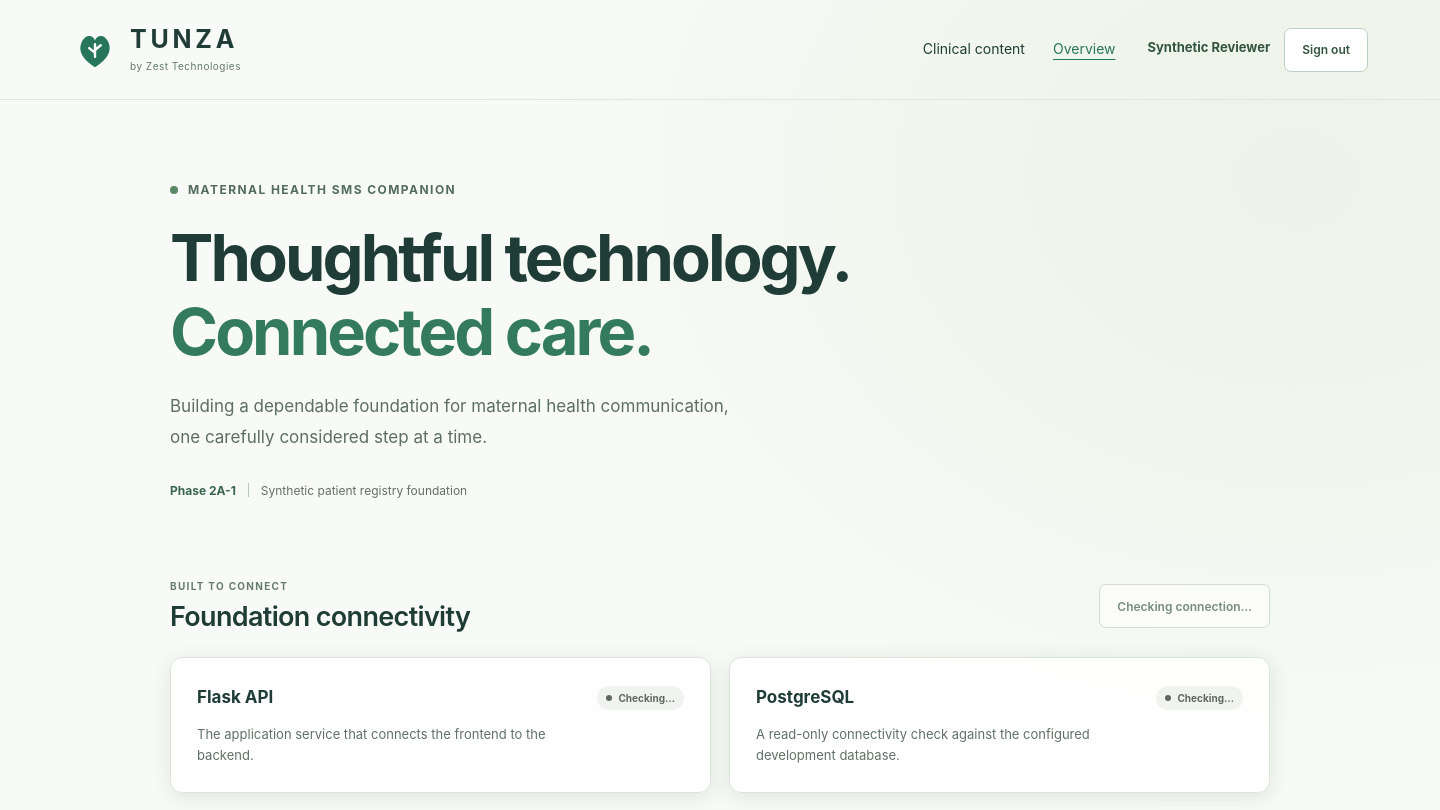
Scenario: synthetic clinical content foundation › uses permission-based navigation without opening patient interfaces
This screenshot has width=1440, height=810.
Click the button "Clinical content". click: (974,50)
box: x1=923 y1=28 x2=1025 y2=71
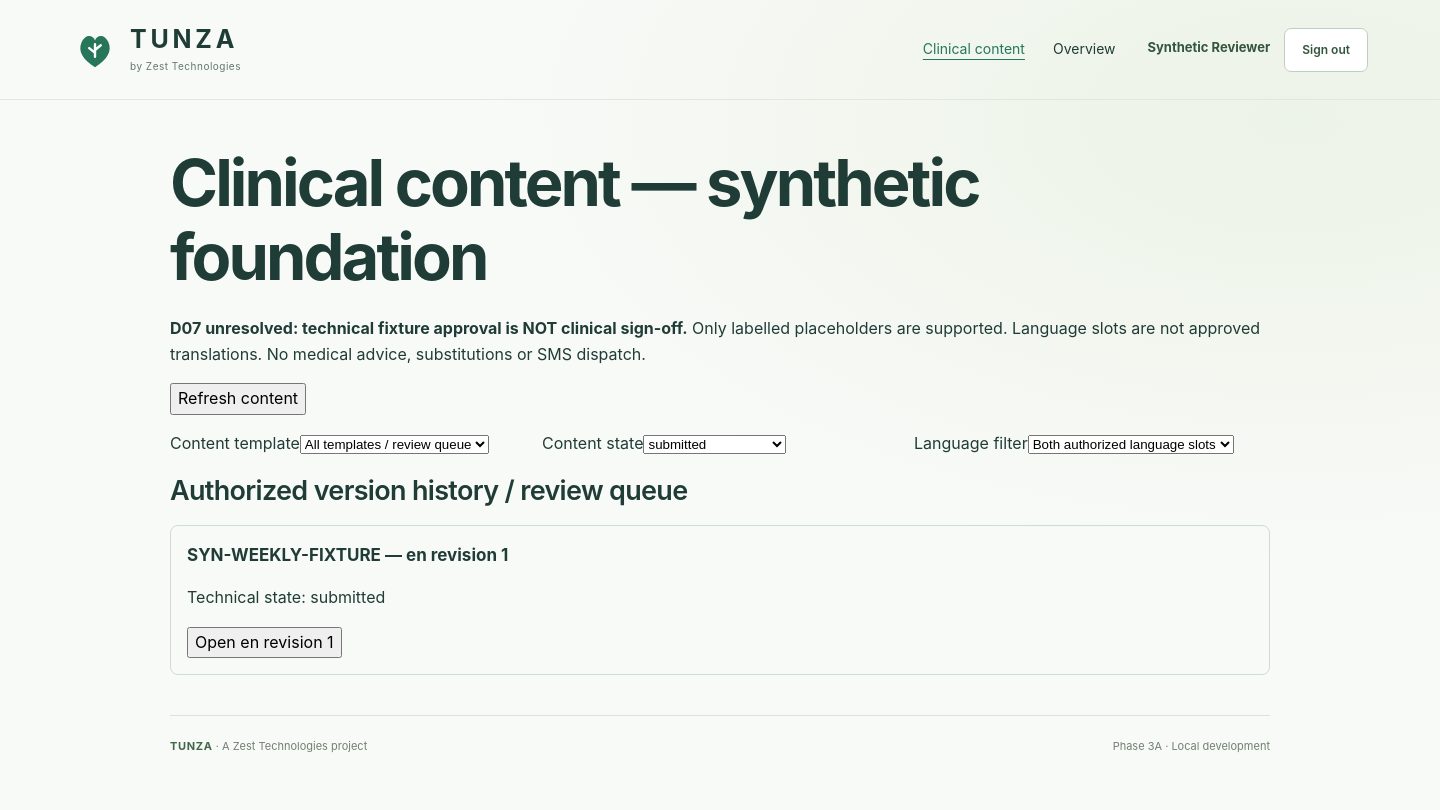
Expected: the heading "Clinical content — synthetic foundation" is shown, x1=170 y1=143 x2=978 y2=296
Expected: the text "technical fixture approval is NOT clinical sign-off" is shown, x1=170 y1=318 x2=688 y2=338
